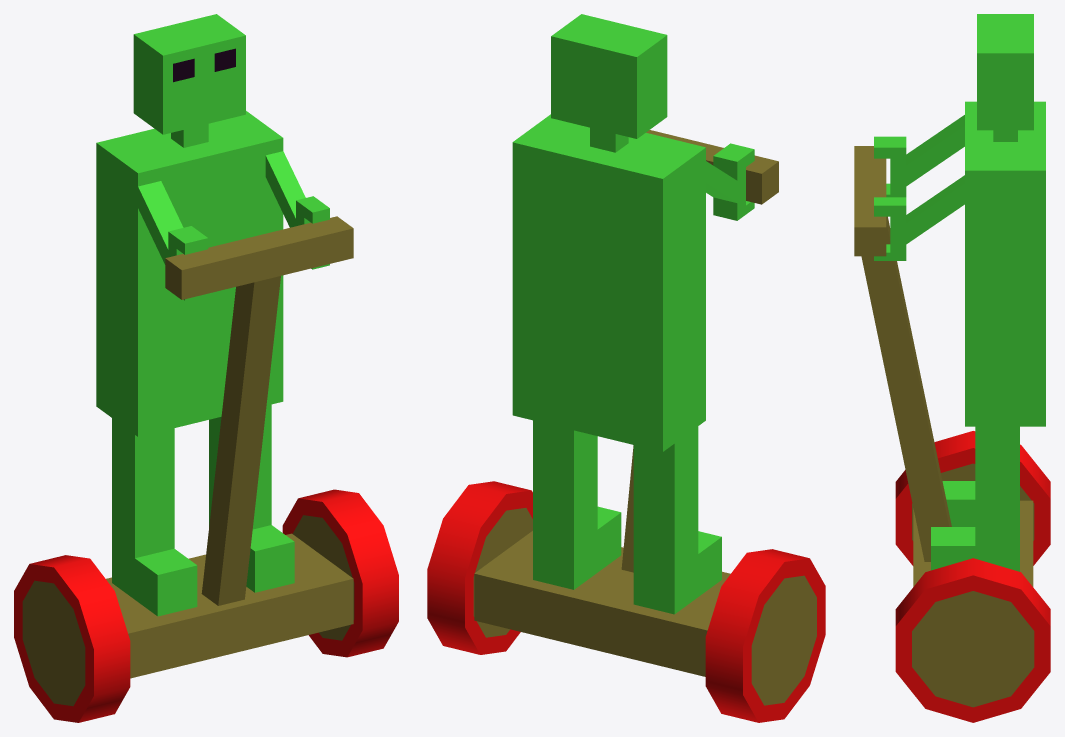
File: segway_003.FBX
The picture shows the model from 3 angles, left to right: view 1: azimuth 30°, elevation 25°; view 2: azimuth 150°, elevation 25°; view 3: azimuth 270°, elevation 25°; orthographic projection. The views are drawn at different scales.
Visible parts, largest first — view 1: SegBody, SegB, SegTire_L, SegRLeg_L, SegTire_R, SegRLeg_R; view 2: SegBody, SegB, SegTire_L, SegRLeg_L, SegRLeg_R, SegTire_R; view 3: SegBody, SegTire_R, SegB, SegRLeg_R, SegTire_L, SegRLeg_L.
Part boxes in pixels (x1,y1,x2,y2): SegBody: (96,14,329,436); SegB: (106,216,353,678); SegTire_L: (14,555,130,722); SegRLeg_L: (112,418,197,616); SegTire_R: (282,489,398,657); SegRLeg_R: (209,404,294,592); SegBody: (512,14,754,451); SegB: (474,130,778,676); SegTire_L: (705,549,825,722); SegRLeg_L: (633,426,721,614); SegRLeg_R: (533,420,621,589); SegTire_R: (427,481,532,654); SegBody: (874,14,1045,426); SegTire_R: (895,558,1050,722); SegB: (854,146,1033,586); SegRLeg_R: (931,426,1019,571); SegTire_L: (895,431,1050,565); SegRLeg_L: (942,481,975,526).
Size of the model in its own units: 16.54 by 32.91 by 9.49.
